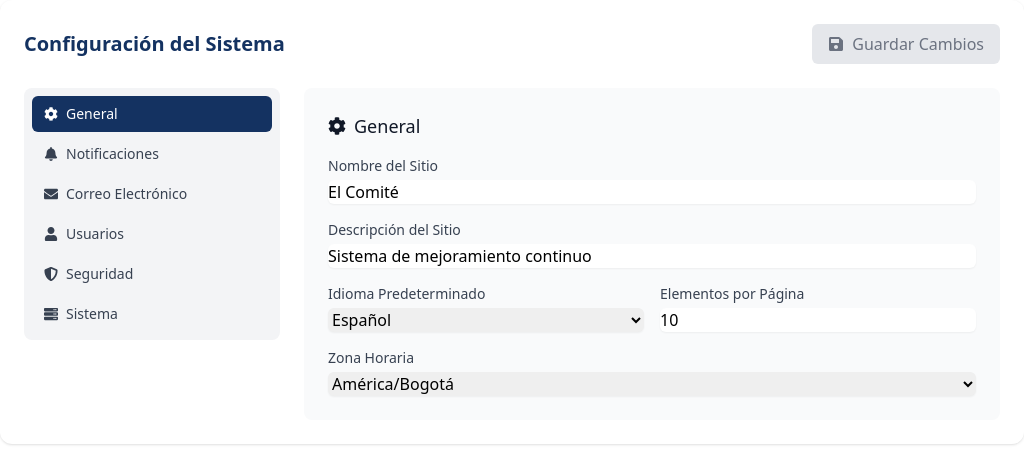
Test: ConfigurationManagement › should enable save button when changes are made and simulate saving
Expected: the button "Guardar Cambios" is disabled, [812,24,1000,64]
Replace the text in the field labelled "Nombre del Sitio" with "Nuevo Nombre" at (652, 192), box [328,180,976,204]
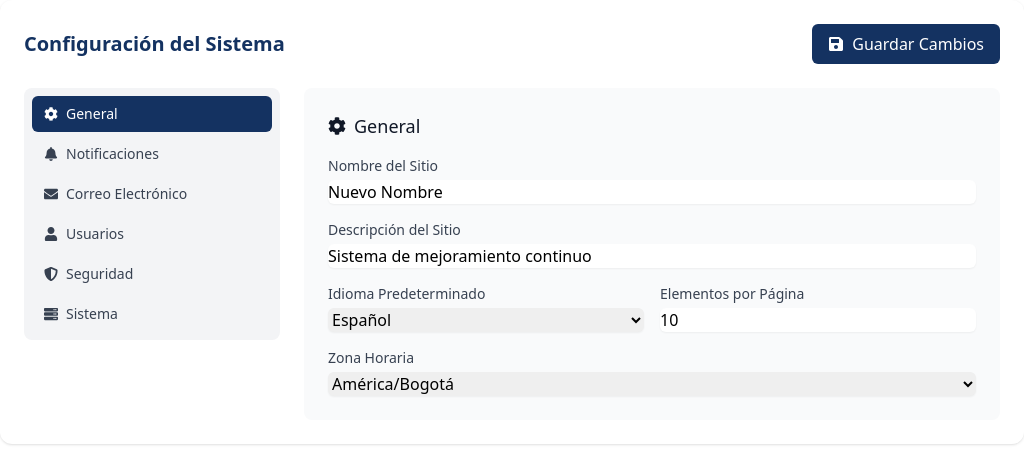
Now the button "Guardar Cambios" is enabled
Click the button "Guardar Cambios" at (906, 44), box [812,24,1000,64]
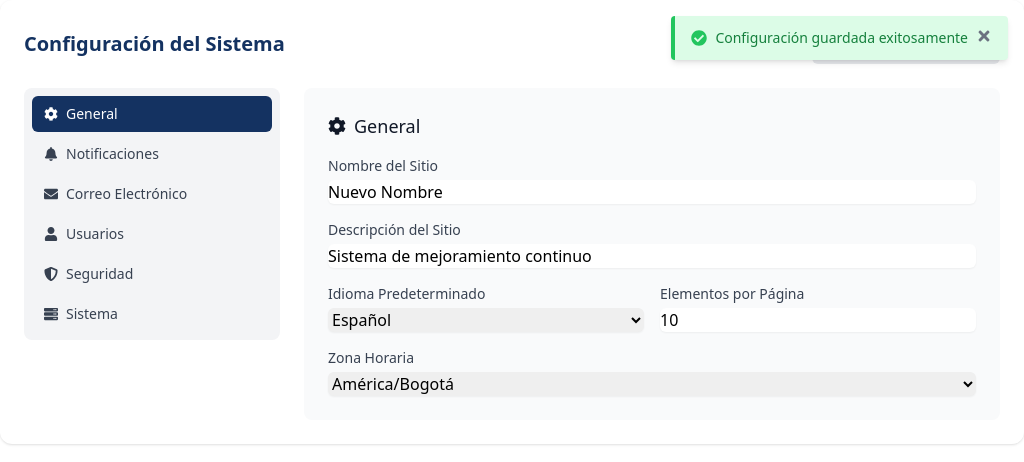
Now the text "Configuración guardada exitosamente" is shown, box [715,28,968,48]
Now the button "Guardar Cambios" is disabled, box [812,24,1000,64]
